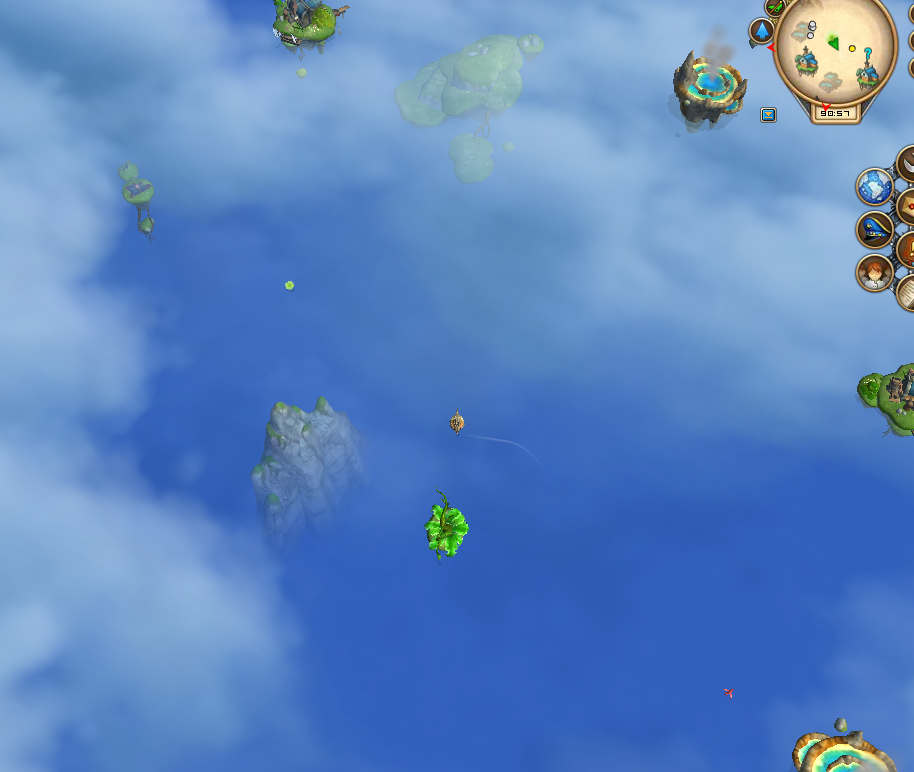dandelion-empty: (422, 485, 473, 564)
fluff: (278, 274, 301, 299)
